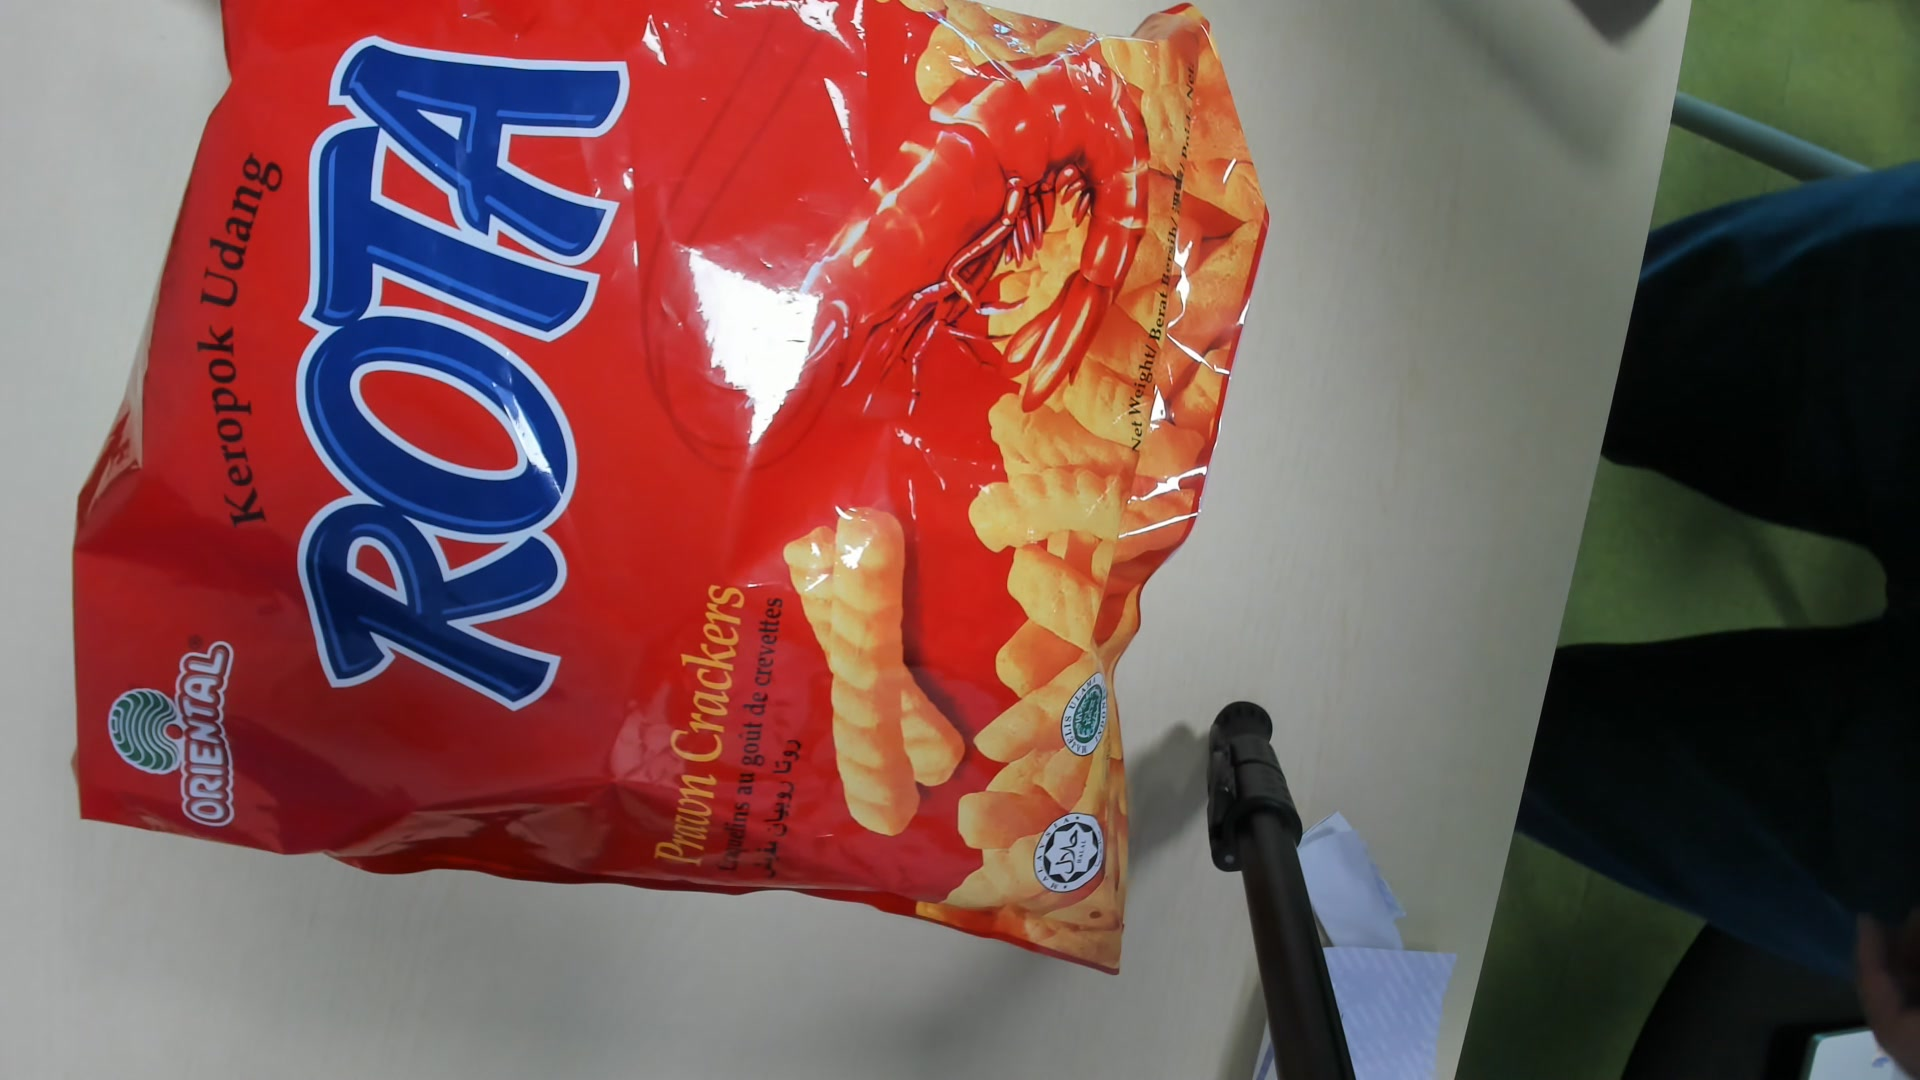PotatoChipsKeropok_100-199g_Halal_NonHealthy: (65, 9, 1255, 965)
